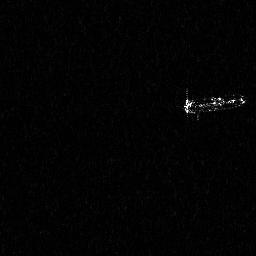ship: (179, 86, 248, 124)
